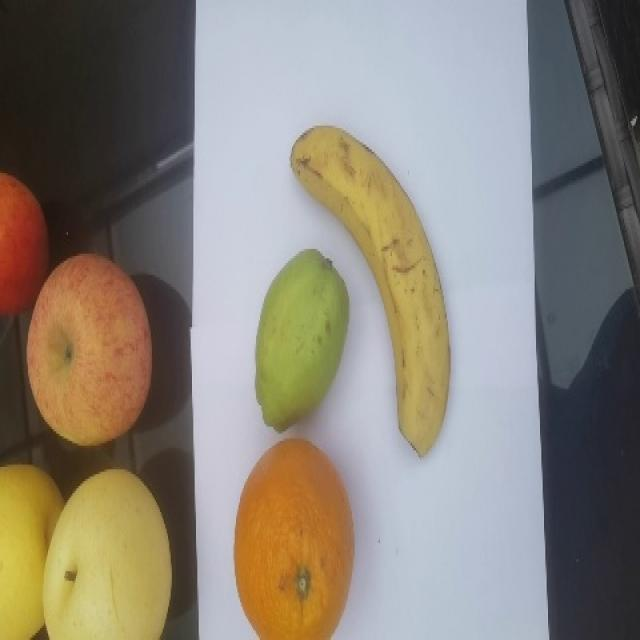Apple: (25, 252, 153, 447), (0, 171, 50, 316)
Banana: (288, 123, 451, 457)
Orange: (233, 437, 355, 639)
